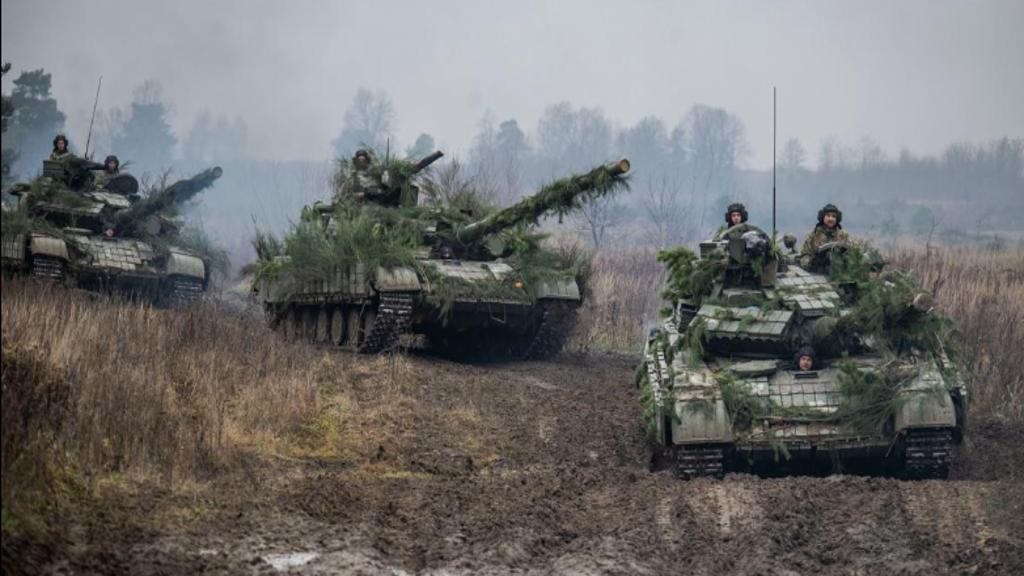TANK: (639, 202, 969, 483), (259, 146, 638, 347), (0, 135, 227, 310)
